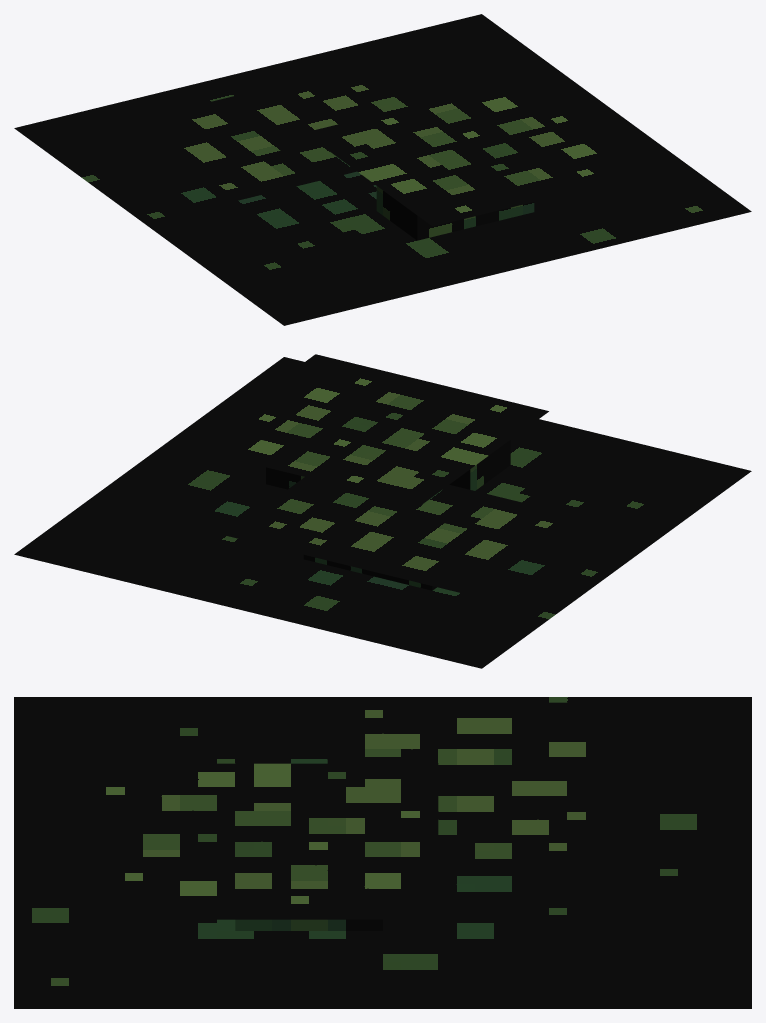
File: ground-moss-2.gltf
The picture shows the model from 3 angles, top to bottom: view 1: azimuth 30°, elevation 25°; view 2: azimuth 150°, elevation 25°; view 3: azimuth 270°, elevation 25°; orthographic projection. The views are drawn at different scales.
Parts seen in each view (by area): view 1: cube (×4); view 2: cube (×6); view 3: cube (×4).
Boxes of the visible parts, <box> form: cube (×4): <box>14,14,751,325</box>; cube (×6): <box>14,354,751,668</box>; cube (×4): <box>14,697,751,1008</box>.
Size of the model in its own units: 2.5 by 0.2032 by 2.5.
Materials: 1 (1 with a texture image).
